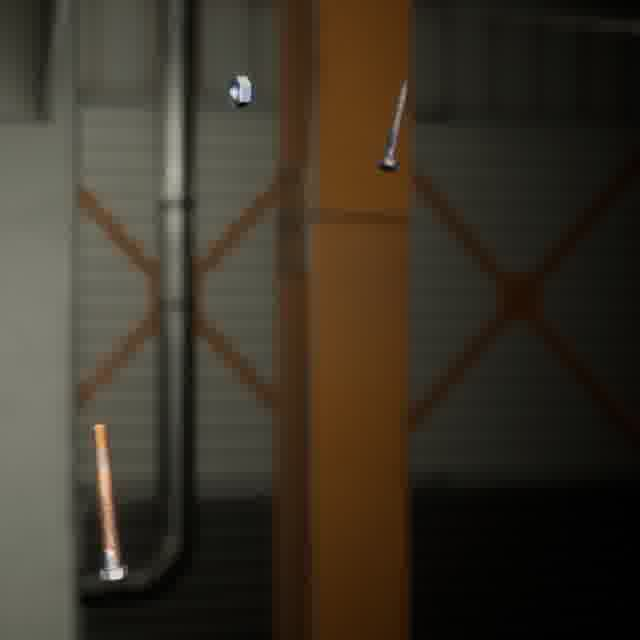bolt: (87, 418, 132, 584), (371, 77, 412, 176)
nut: (223, 71, 256, 112)
